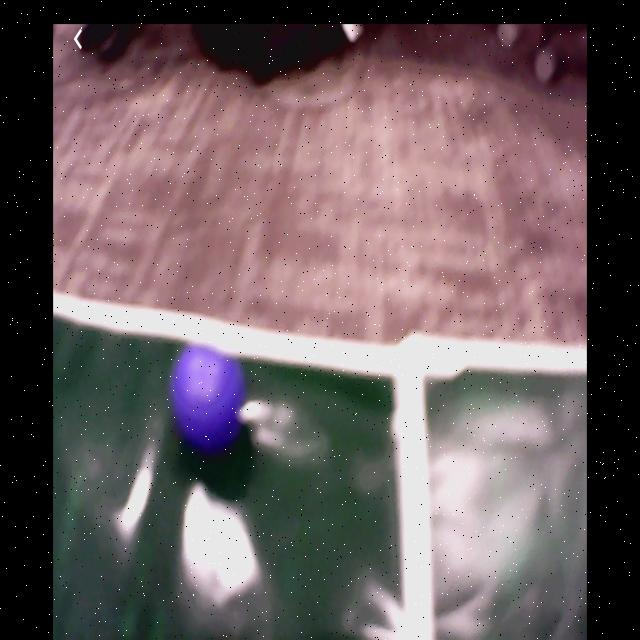ball: (173, 345, 238, 442)
